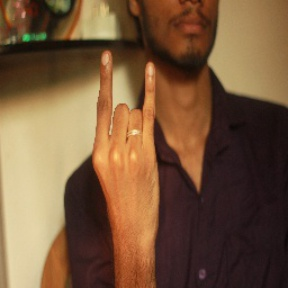V: (87, 47, 165, 225)
